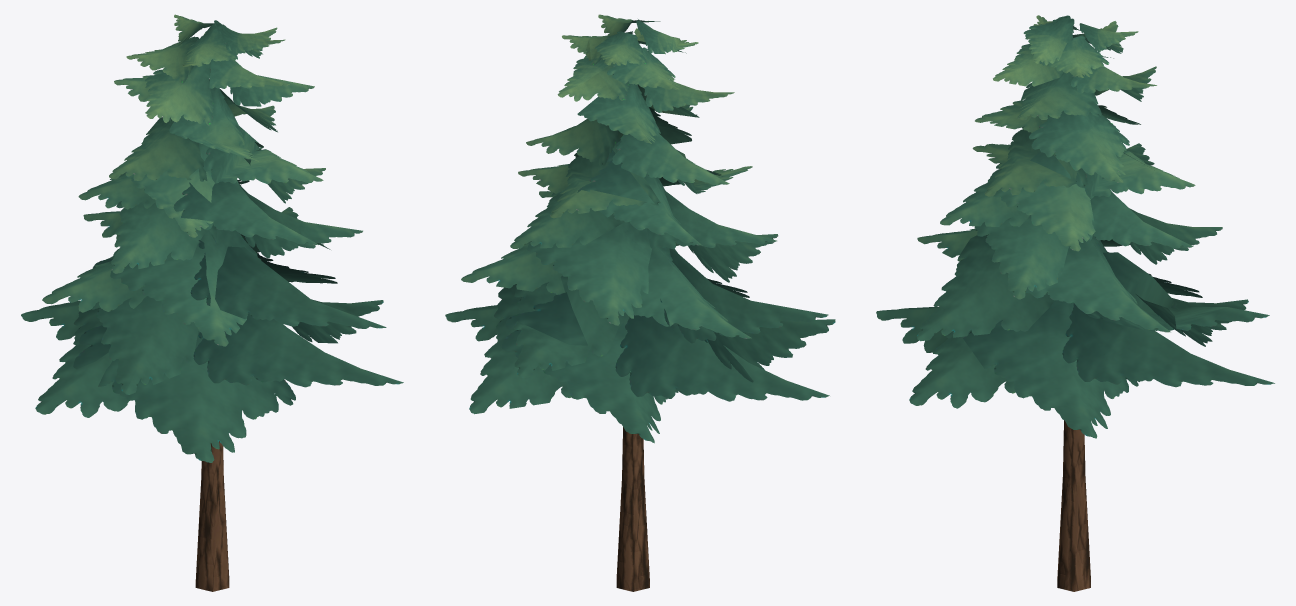
File: tree_pine_b_far.glb
3 views of the same model, side by side, from view 1: azimuth 30°, elevation 25°; view 2: azimuth 150°, elevation 25°; view 3: azimuth 270°, elevation 25° (orthographic).
Parts seen in each view (by area): view 1: Canopy, tree_pine_b_far; view 2: Canopy, tree_pine_b_far; view 3: Canopy, tree_pine_b_far.
Boxes of the visible parts, box(x1,y1,x2,y2) form: Canopy: box(21, 14, 403, 462); tree_pine_b_far: box(195, 79, 229, 591); Canopy: box(445, 14, 835, 443); tree_pine_b_far: box(616, 427, 649, 591); Canopy: box(876, 15, 1274, 438); tree_pine_b_far: box(1057, 420, 1090, 591).
Size of the model in its own units: 1.38 by 1.97 by 1.29.
Materials: 2 (2 with a texture image).
